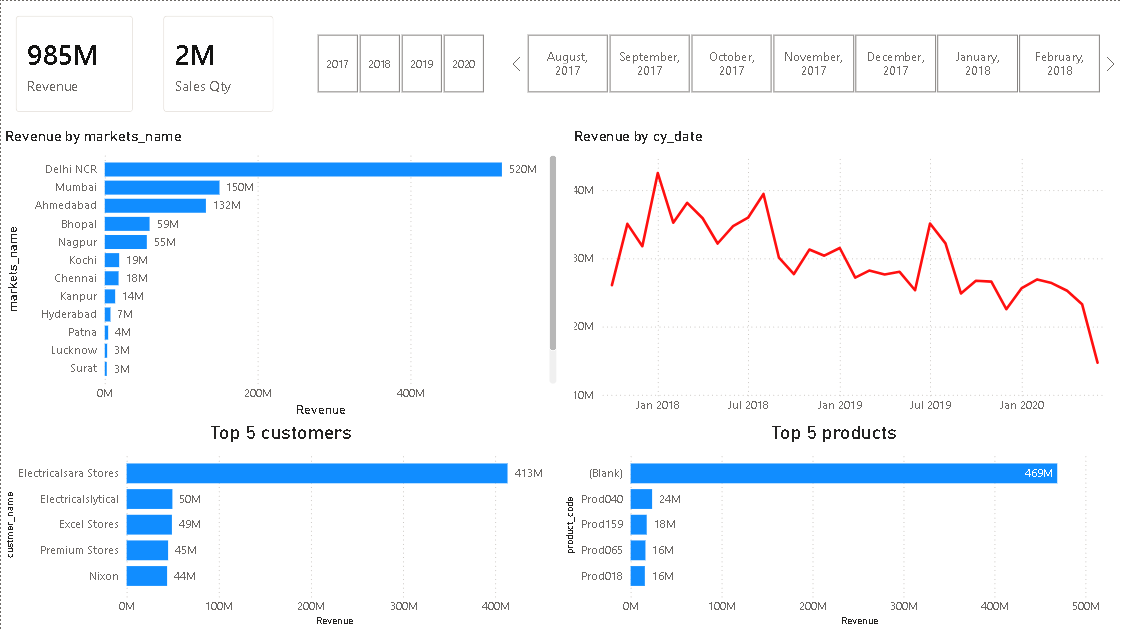

This screenshot's page, from the dashboard's own definition file:
{"tool":"powerbi","page":{"name":"Page 1","canvas":[1280,720],"ordinal":0},"visuals":[{"type":"barChart","fields":{"Y":["BaseMeasures (2).Revenue"],"Category":["sales markets.markets_name"]},"box":[0,144,640,336],"z":0},{"type":"cardVisual","fields":{"Data":["BaseMeasures (2).Sales Qty"]},"box":[168,0,160,144],"z":1000},{"type":"cardVisual","fields":{"Data":["BaseMeasures (2).Revenue"]},"box":[0,0,168,144],"z":2000},{"type":"slicer","fields":{"Values":["sales date.cy_date"]},"box":[576,32,704,80],"z":3000},{"type":"slicer","fields":{"Values":["sales date.year"]},"box":[336,32,240,80],"z":4000},{"type":"barChart","title":"Top 5 customers","fields":{"Y":["BaseMeasures (2).Revenue"],"Category":["sales customers.custmer_name"]},"box":[0,480,640,240],"z":5000},{"type":"barChart","title":"Top 5 products","fields":{"Y":["BaseMeasures (2).Revenue"],"Category":["sales products.product_code"]},"box":[640,480,624,240],"z":6000},{"type":"lineChart","fields":{"Y":["BaseMeasures (2).Revenue"],"Category":["sales date.cy_date"]},"box":[640,144,640,336],"z":7000}]}

Visuals, with their boxes in screenshot pixels (x1, y1, x2, y2), scaled from the page's 1280x720 canvas onto the 1121x631 screenshot:
barChart - BaseMeasures (2).Revenue x sales markets.markets_name: Rect(0, 126, 560, 421)
cardVisual - BaseMeasures (2).Sales Qty: Rect(147, 0, 287, 126)
cardVisual - BaseMeasures (2).Revenue: Rect(0, 0, 147, 126)
slicer - sales date.cy_date: Rect(504, 28, 1120, 98)
slicer - sales date.year: Rect(294, 28, 504, 98)
"Top 5 customers" barChart: Rect(0, 421, 560, 630)
"Top 5 products" barChart: Rect(560, 421, 1107, 630)
lineChart - BaseMeasures (2).Revenue x sales date.cy_date: Rect(560, 126, 1120, 421)
